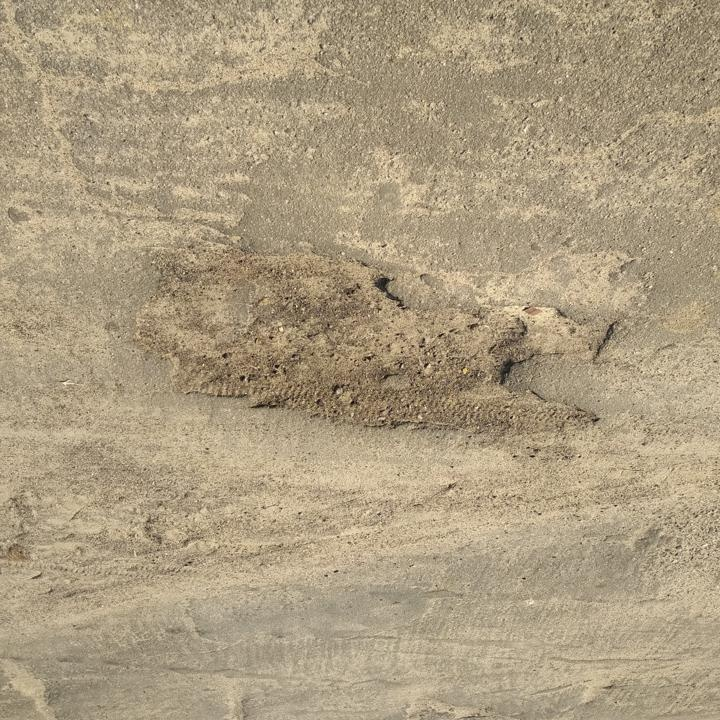pothole: (127, 239, 618, 446)
